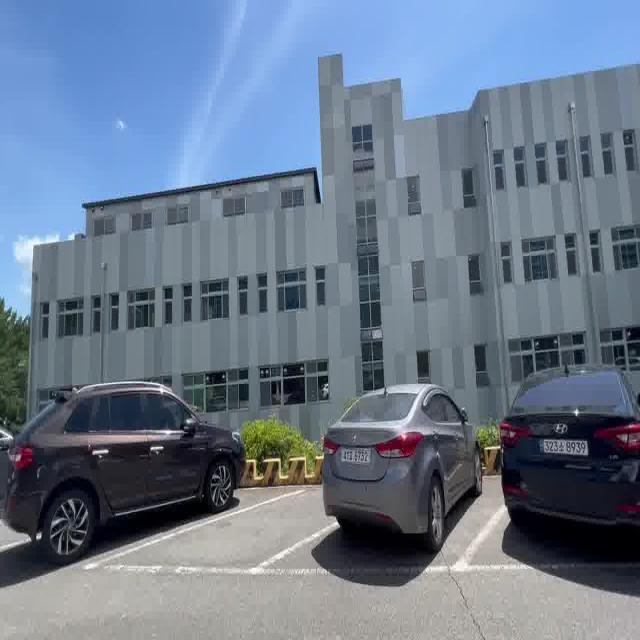building: (70, 29, 640, 368)
